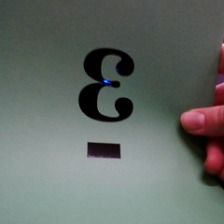green3: (71, 42, 140, 172)
